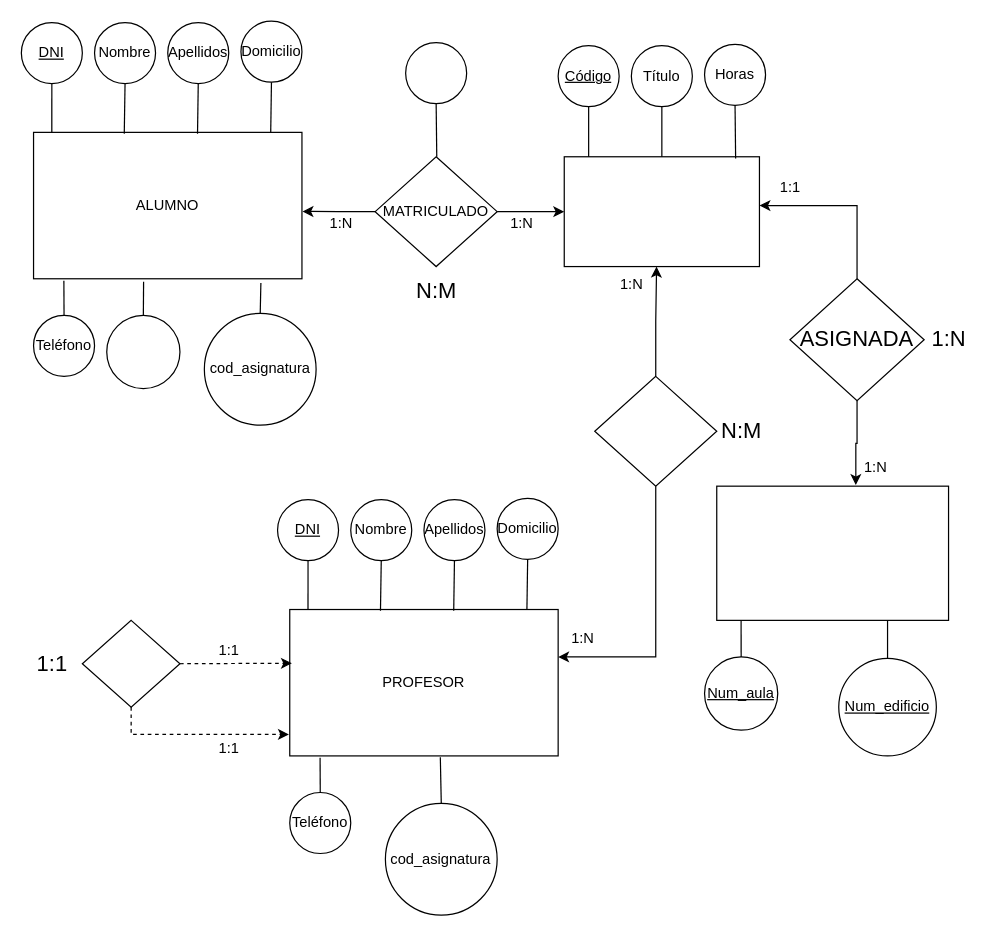
The diagram is 1000 pixels wide and 937 high, and some of its shapes have lost their labels. The centre of each missing label's shape, as x and y in pixels:
ASIGNATURA: the point at 661,211
AULA: the point at 832,552
cod_ciclo: the point at 143,351
IMPARTE: the point at 655,430
Nota: the point at 435,72
SUPERVISA: the point at 130,663
